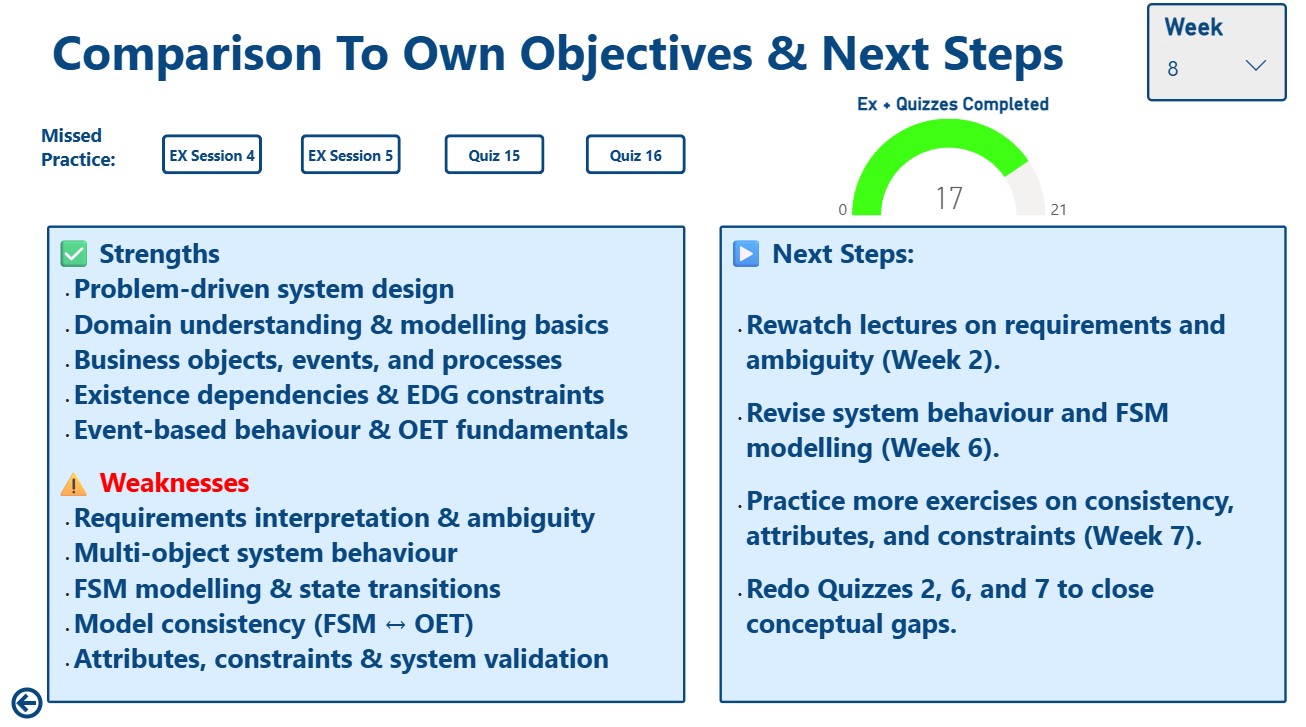

The page's visual inventory and layout, read from the dashboard file:
{"tool":"powerbi","page":{"name":"Next Steps","canvas":[1280,720],"ordinal":3},"visuals":[{"type":"gauge","title":"Ex + Quizzes Completed","fields":{"Y":["Quiz Table.Sum"],"MaxValue":["Quiz Table.Measure"]},"box":[742.5,90,407.5,132.5],"z":0},{"type":"textbox","box":[40,10,1065,80],"z":1000},{"type":"slicer","fields":{"Values":["WeekTable.Value"]},"box":[1140,0,140,98.8],"z":2000},{"type":"actionButton","box":[0,680,40,40],"z":3000},{"type":"textbox","box":[40,222.5,638.8,477.5],"z":5000},{"type":"textbox","box":[28.8,113.8,93.8,75],"z":6000},{"type":"actionButton","box":[155,131.2,100,40],"z":7000},{"type":"actionButton","box":[293.8,131.2,100,40],"z":8000},{"type":"actionButton","box":[437.5,131.2,100,40],"z":9000},{"type":"actionButton","box":[578.8,131.2,100,40],"z":10000},{"type":"textbox","box":[712.5,222.5,567.5,477.5],"z":11000}]}

Visuals, with their boxes in screenshot pixels (x1, y1, x2, y2), scaled from the page's 1280x720 canvas onto the 1306x727 screenshot:
"Ex + Quizzes Completed" gauge: rect(758, 91, 1173, 225)
textbox: rect(41, 10, 1127, 91)
slicer - WeekTable.Value: rect(1163, 0, 1305, 100)
actionButton: rect(0, 687, 41, 726)
textbox: rect(41, 225, 693, 707)
textbox: rect(29, 115, 125, 191)
actionButton: rect(158, 132, 260, 173)
actionButton: rect(300, 132, 402, 173)
actionButton: rect(446, 132, 548, 173)
actionButton: rect(591, 132, 693, 173)
textbox: rect(727, 225, 1305, 707)
